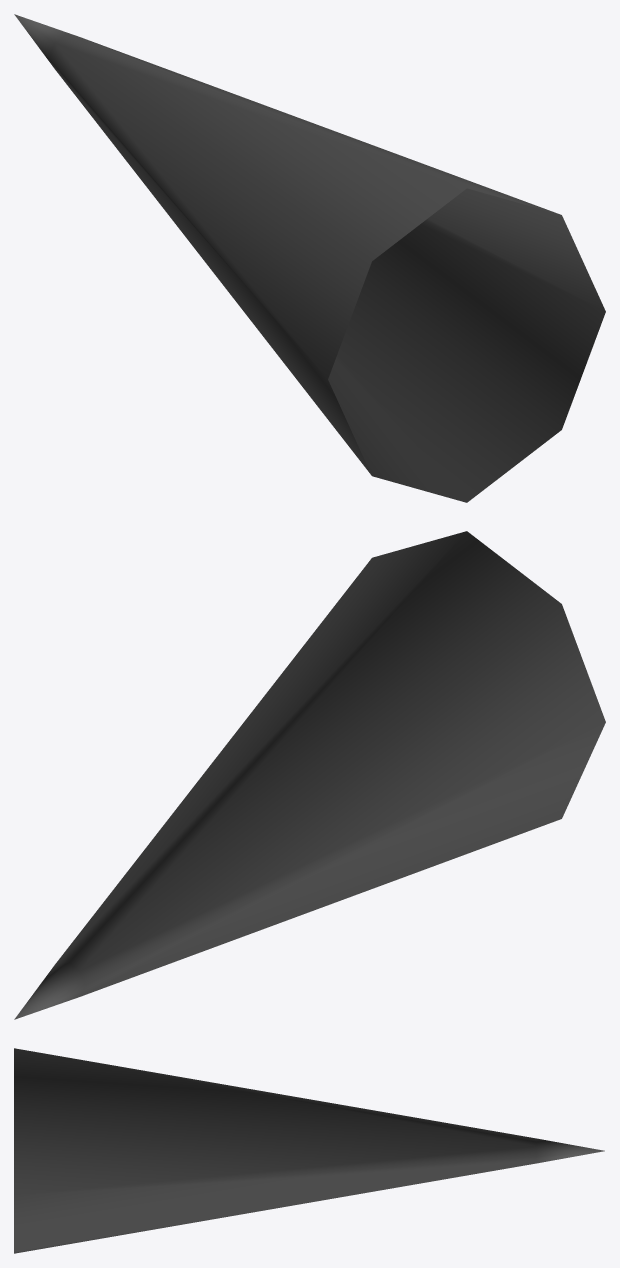
Rendered from stat_vossk_bottom2.glb.
3 views of the same model, one above another, from view 1: azimuth 30°, elevation 25°; view 2: azimuth 150°, elevation 25°; view 3: azimuth 270°, elevation 25° (orthographic). The views are drawn at different scales.
Parts seen in each view (by area): view 1: group_13; view 2: group_13; view 3: group_13.
Part boxes in pixels (x1,y1,x2,y2): group_13: [14, 14, 605, 502]; group_13: [14, 531, 605, 1019]; group_13: [14, 1048, 604, 1253].
Size of the model in its own units: 4866 by 5262 by 13736.
Materials: 1 (1 with a texture image).
